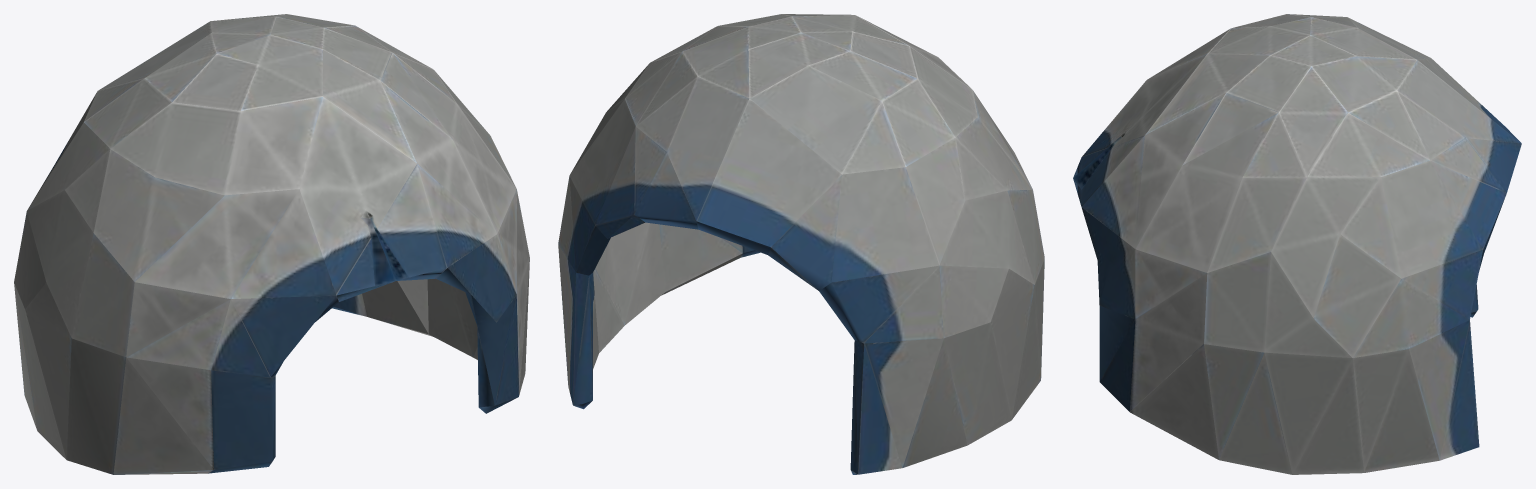
File: helmet_silverguard.glb
3 views of the same model, side by side, from view 1: azimuth 30°, elevation 25°; view 2: azimuth 150°, elevation 25°; view 3: azimuth 270°, elevation 25° (orthographic). The views are drawn at different scales.
Size of the model in its own units: 1 by 0.7949 by 0.9277.
Materials: 1 (1 with a texture image).
